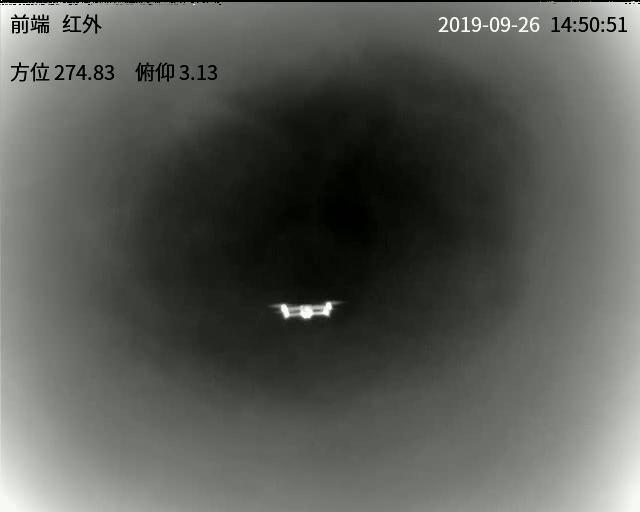DRONE: (272, 300, 339, 319)
